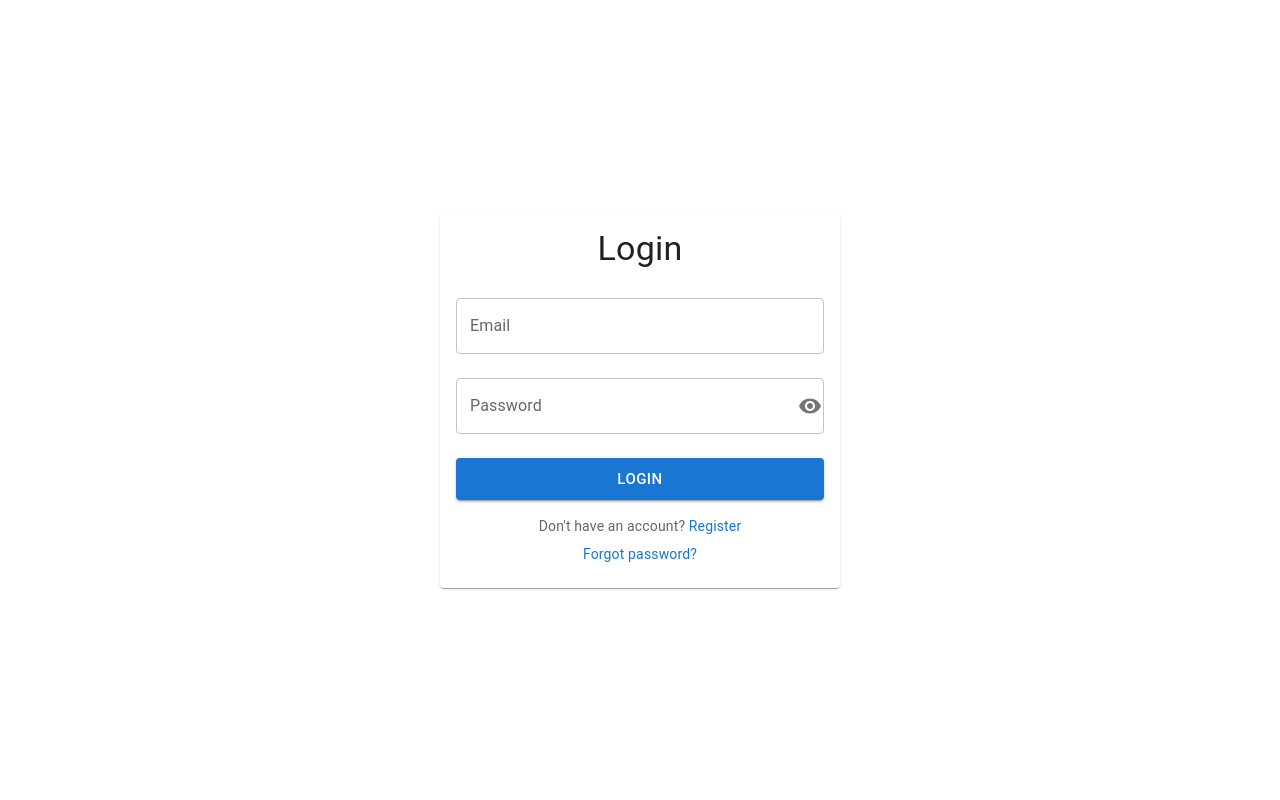
Test: LoginForm › should show validation error for invalid email format
// Type invalid email
Type "invalid-email" into the field labelled "Email".
click(640, 326); type("invalid-email")  # box left=456, top=298, right=824, bottom=354
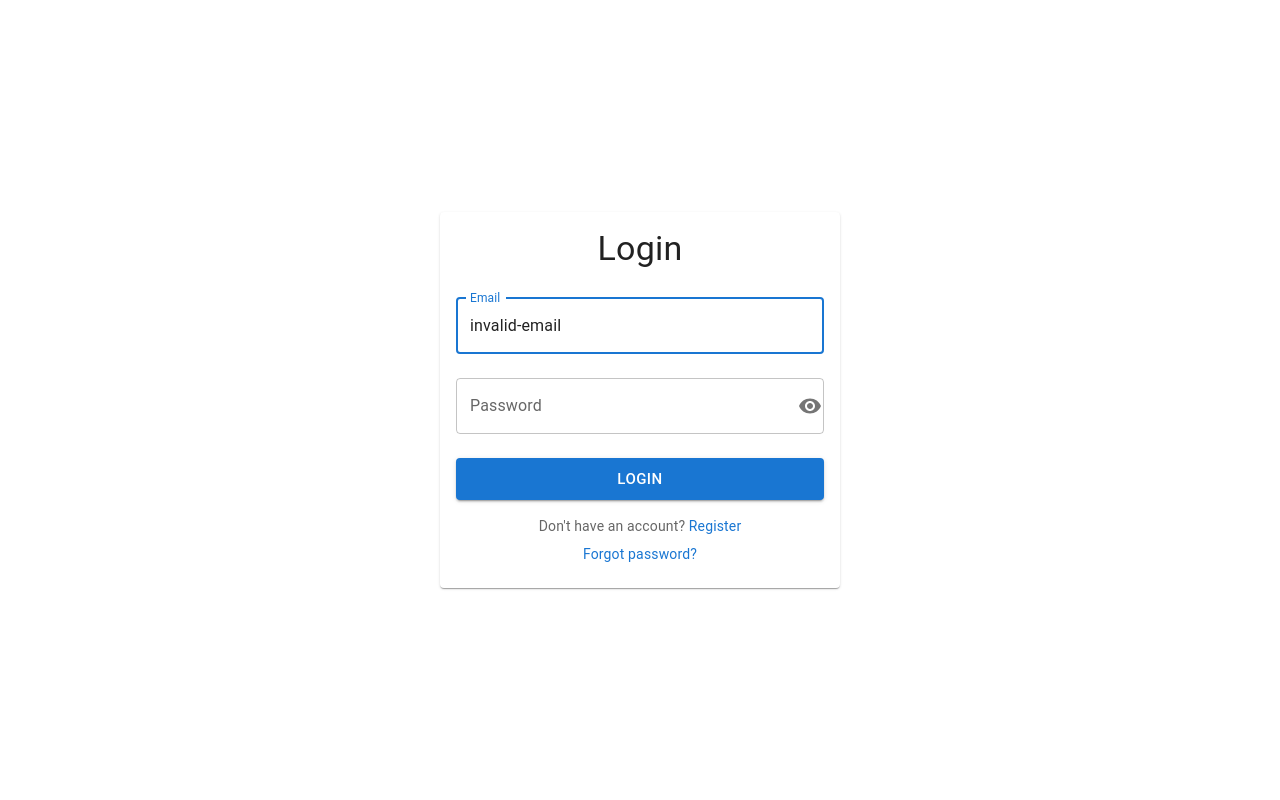
Type "password123" into the password field labelled "Password".
click(623, 406); type("password123")  # box left=456, top=378, right=790, bottom=434
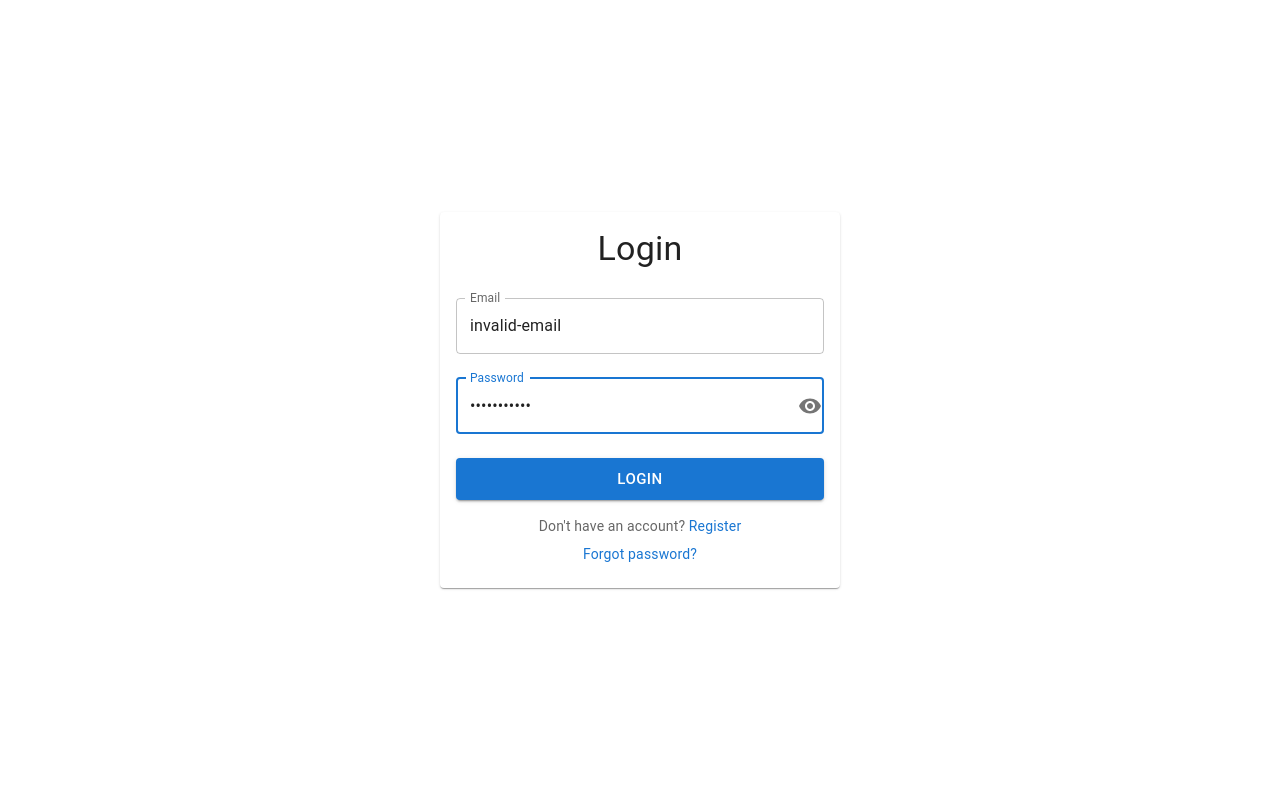
Click the button "Login".
click(640, 479)  # box left=456, top=458, right=824, bottom=500
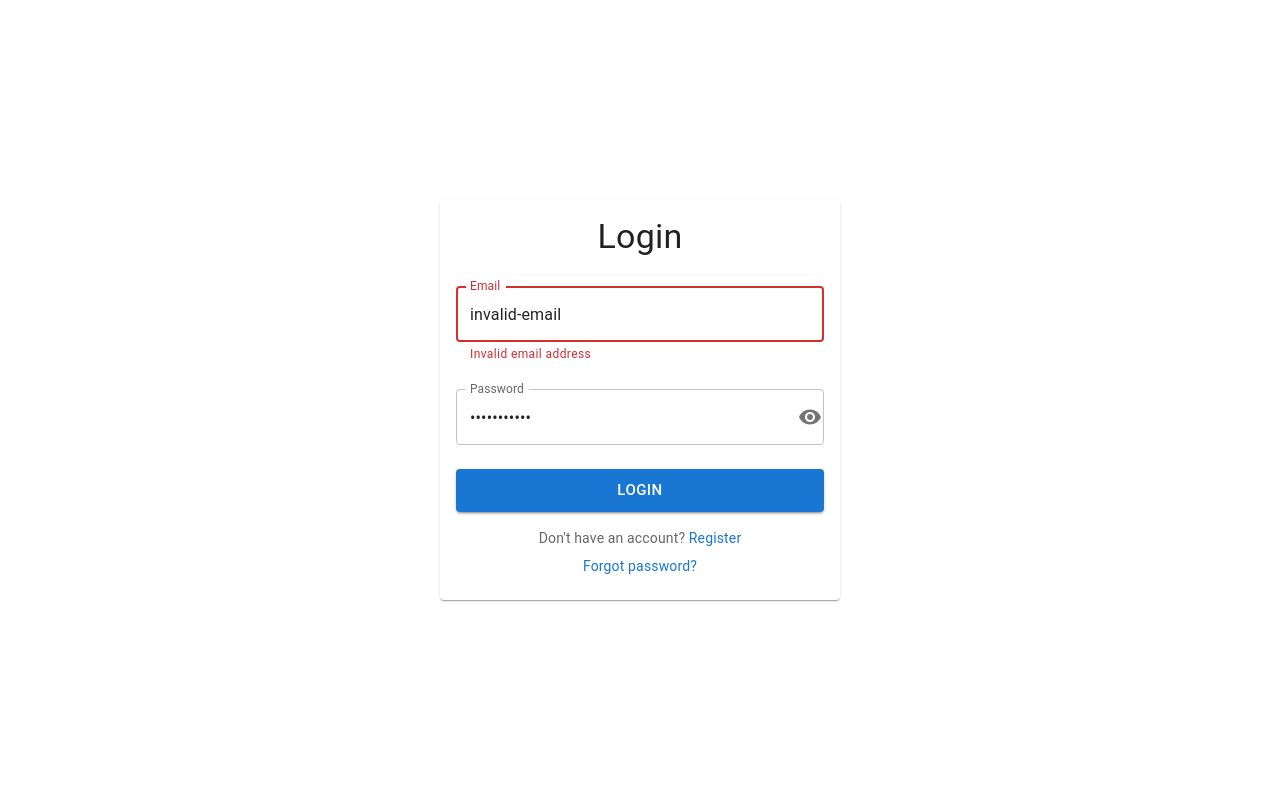
Expected: the text "Invalid email address" is shown, left=470, top=347, right=591, bottom=361
